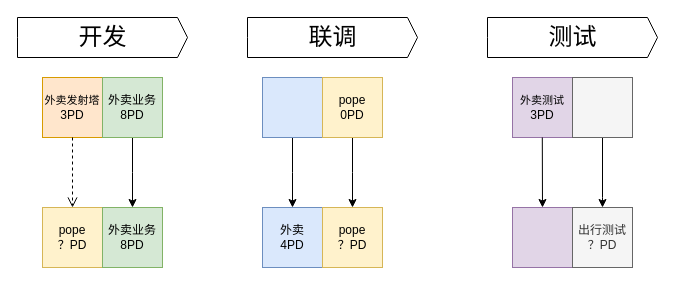
Some shapes in this 675 by 285 pixel diagram are drawn without their labels. Here are the shapes that lost their labels. From the top down, the centre of each, then its label:
the point at 292,107: 外卖 3PD
the point at 602,107: 出行测试 0PD
the point at 542,237: 外卖测试 1.5PD
